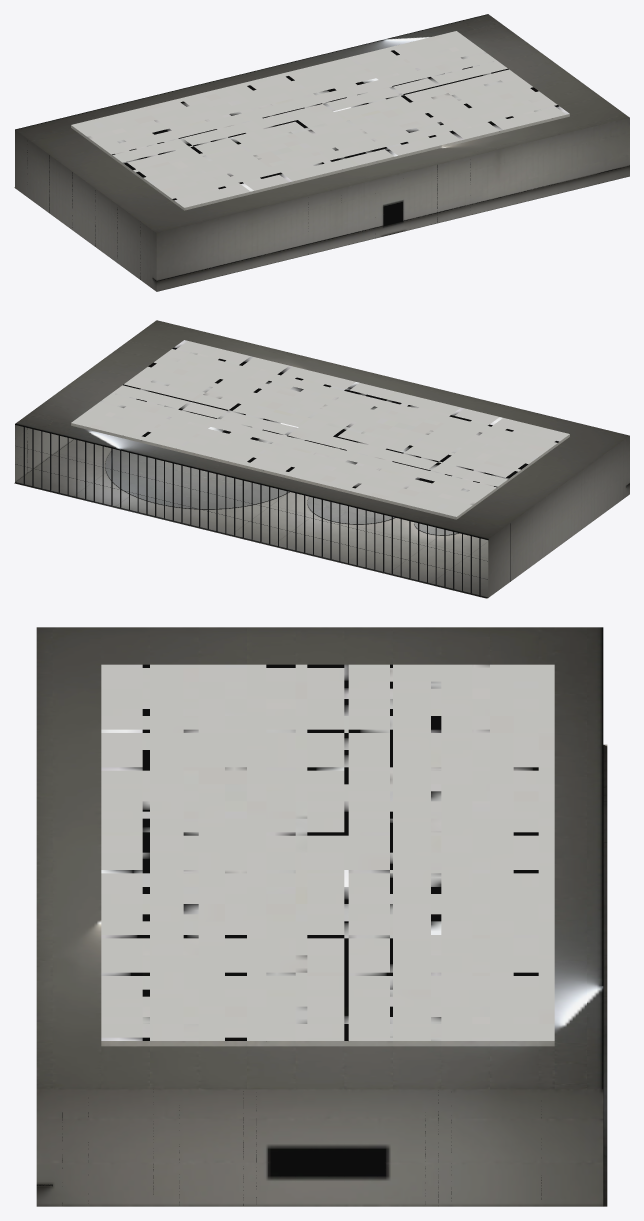
The model's file is room.glb.
The picture shows the model from 3 angles, top to bottom: view 1: azimuth 30°, elevation 25°; view 2: azimuth 150°, elevation 25°; view 3: azimuth 270°, elevation 25°; orthographic projection. The views are drawn at different scales.
Visible parts, largest first — view 1: room_shell, room_glow; view 2: room_shell, room_glow, room_floor; view 3: room_glow, room_shell, room_floor.
Part boxes in pixels (x1,y1,x2,y2): room_shell: (15, 14, 629, 291); room_glow: (71, 31, 569, 207); room_shell: (15, 320, 629, 597); room_glow: (71, 340, 569, 516); room_floor: (14, 439, 488, 598); room_glow: (101, 664, 554, 1040); room_shell: (36, 627, 603, 1206); room_floor: (603, 744, 607, 1206).
Size of the model in its own units: 270 by 33.52 by 141.
Materials: 5 (4 with a texture image).
